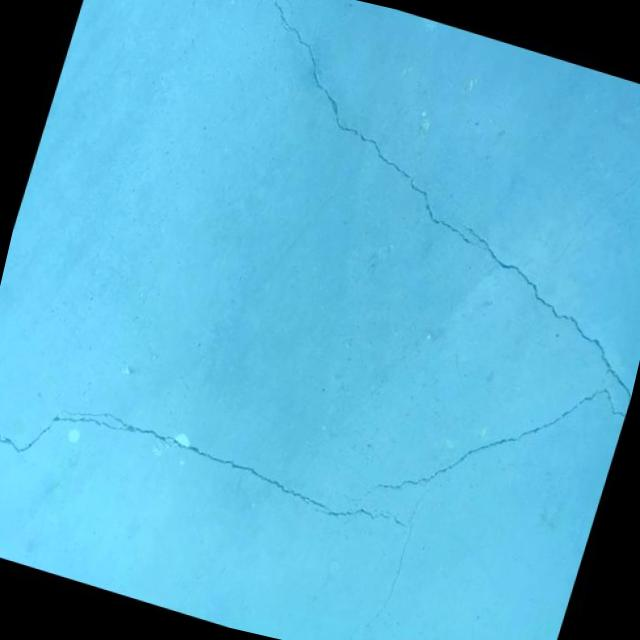crack: (107, 0, 640, 573), (0, 371, 419, 568), (366, 482, 428, 636), (268, 0, 303, 18), (336, 620, 361, 640)
